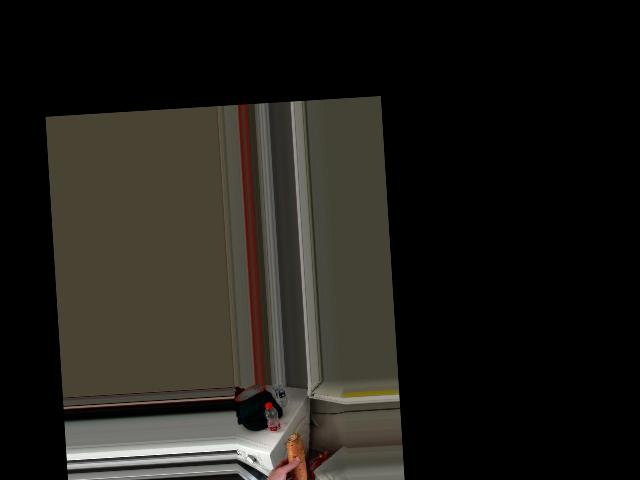sweet_potato: (283, 431, 309, 480)
